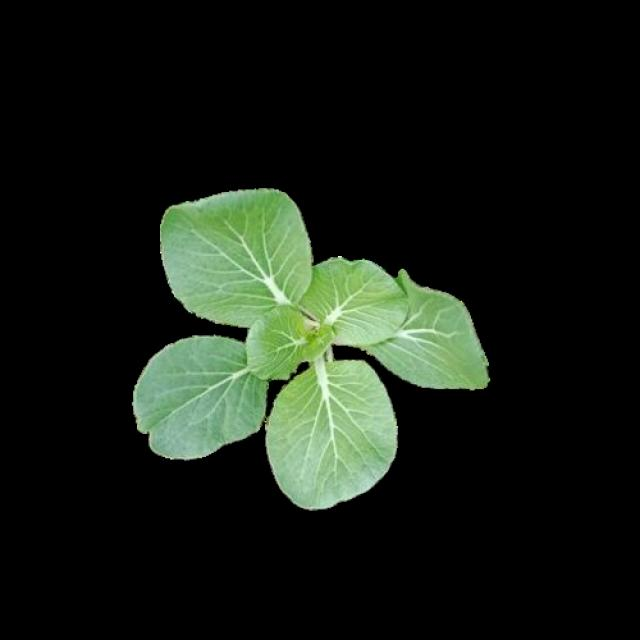healthy: (131, 187, 485, 503)
not-mature: (133, 190, 488, 506)
